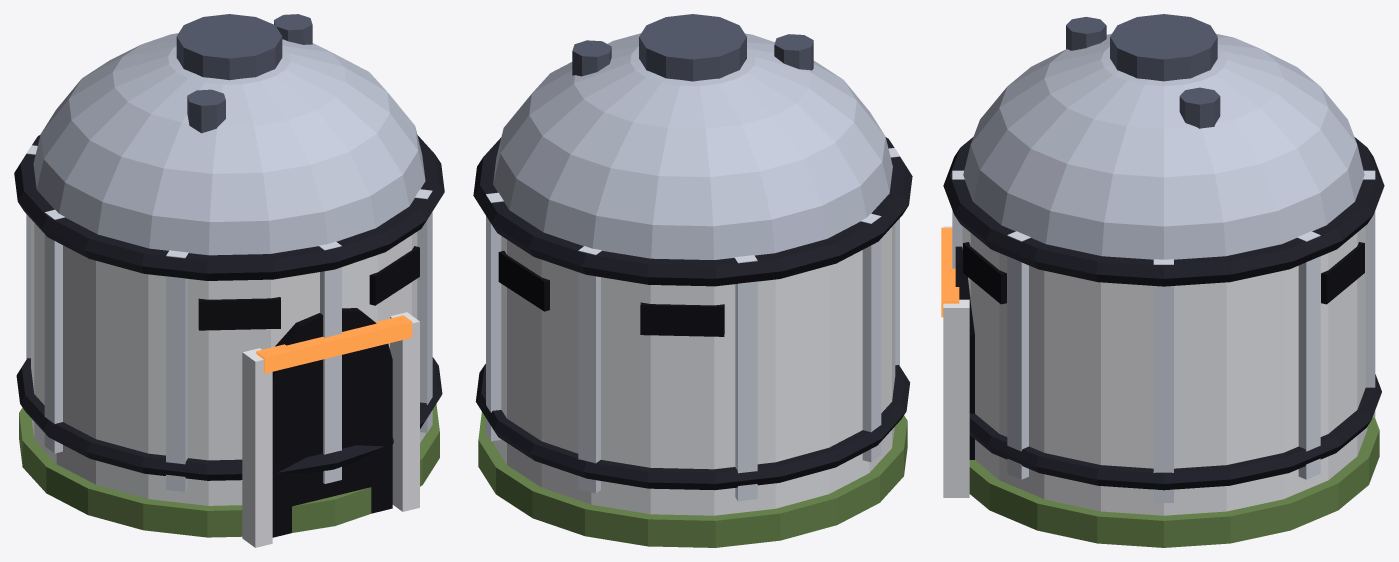
The model's file is jungle_hab_dome.glb.
3 renders of one model, left to right at view 1: azimuth 30°, elevation 25°; view 2: azimuth 150°, elevation 25°; view 3: azimuth 270°, elevation 25°, orthographic.
Visible parts, largest first — view 1: jungle_hab_dome; view 2: jungle_hab_dome; view 3: jungle_hab_dome.
Boxes of the visible parts, left/top/right/bottom form: jungle_hab_dome: left=14, top=14, right=444, bottom=547; jungle_hab_dome: left=473, top=14, right=912, bottom=547; jungle_hab_dome: left=941, top=14, right=1384, bottom=547.
Bounding box in the file's own units: 7.38 × 7.75 × 7.41.
